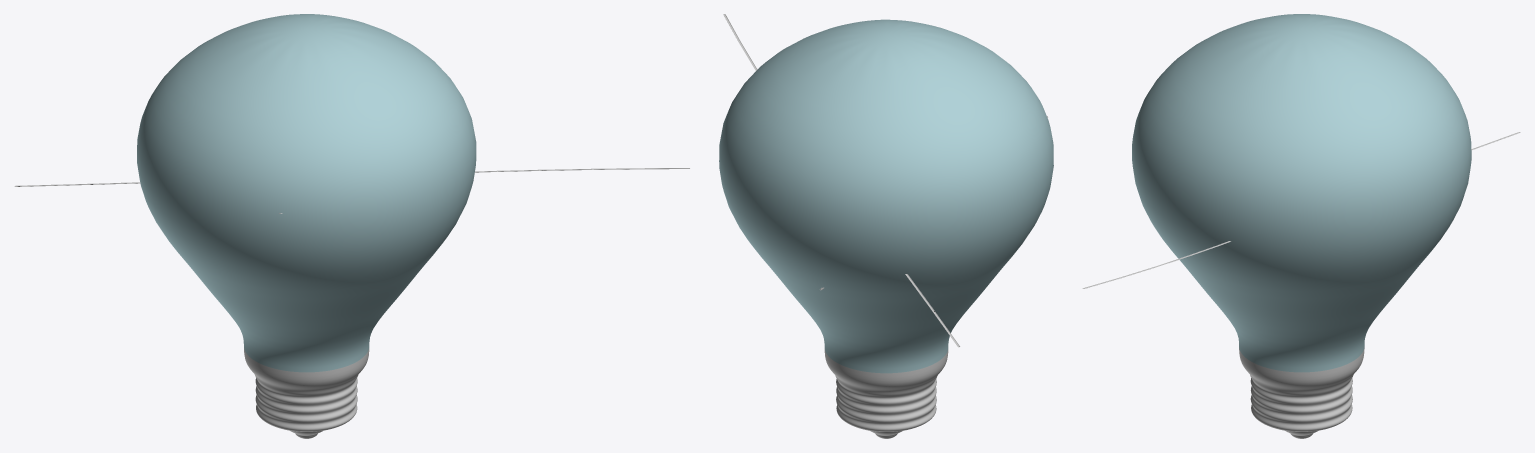
The model's file is lamp_fbx.fbx.
3 renders of one model, left to right at view 1: azimuth 30°, elevation 25°; view 2: azimuth 150°, elevation 25°; view 3: azimuth 270°, elevation 25°, orthographic.
Visible parts, largest first — view 1: Circle; view 2: Circle, BezierCurve.001; view 3: Circle.
Boxes of the visible parts, left/top/right/bottom form: Circle: left=137, top=14, right=476, bottom=438; Circle: left=719, top=19, right=1053, bottom=438; BezierCurve.001: left=723, top=14, right=960, bottom=347; Circle: left=1132, top=14, right=1471, bottom=438.
Bounding box in the file's own units: 5.15 × 4.39 × 4.27.
